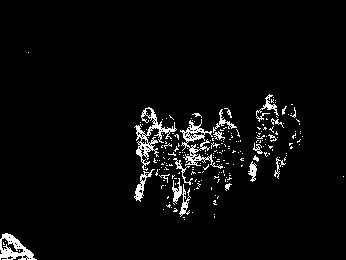person: (179, 111, 212, 219), (210, 104, 244, 204), (132, 104, 161, 204), (249, 91, 279, 182), (271, 101, 302, 182), (157, 112, 182, 211)
